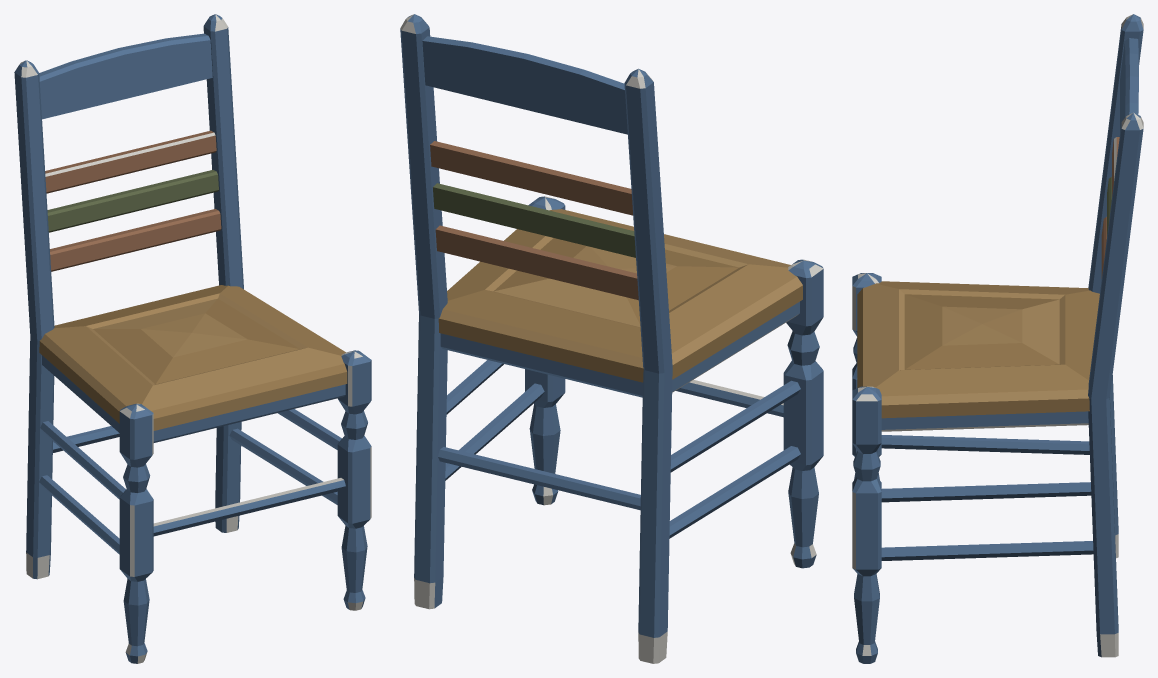
The model's file is painted-taverna-chair-f4e97e.glb.
3 renders of one model, left to right at view 1: azimuth 30°, elevation 25°; view 2: azimuth 150°, elevation 25°; view 3: azimuth 270°, elevation 25°, orthographic. The views are drawn at different scales.
Bounding box in the file's own units: 0.46 × 0.92 × 0.4492.
